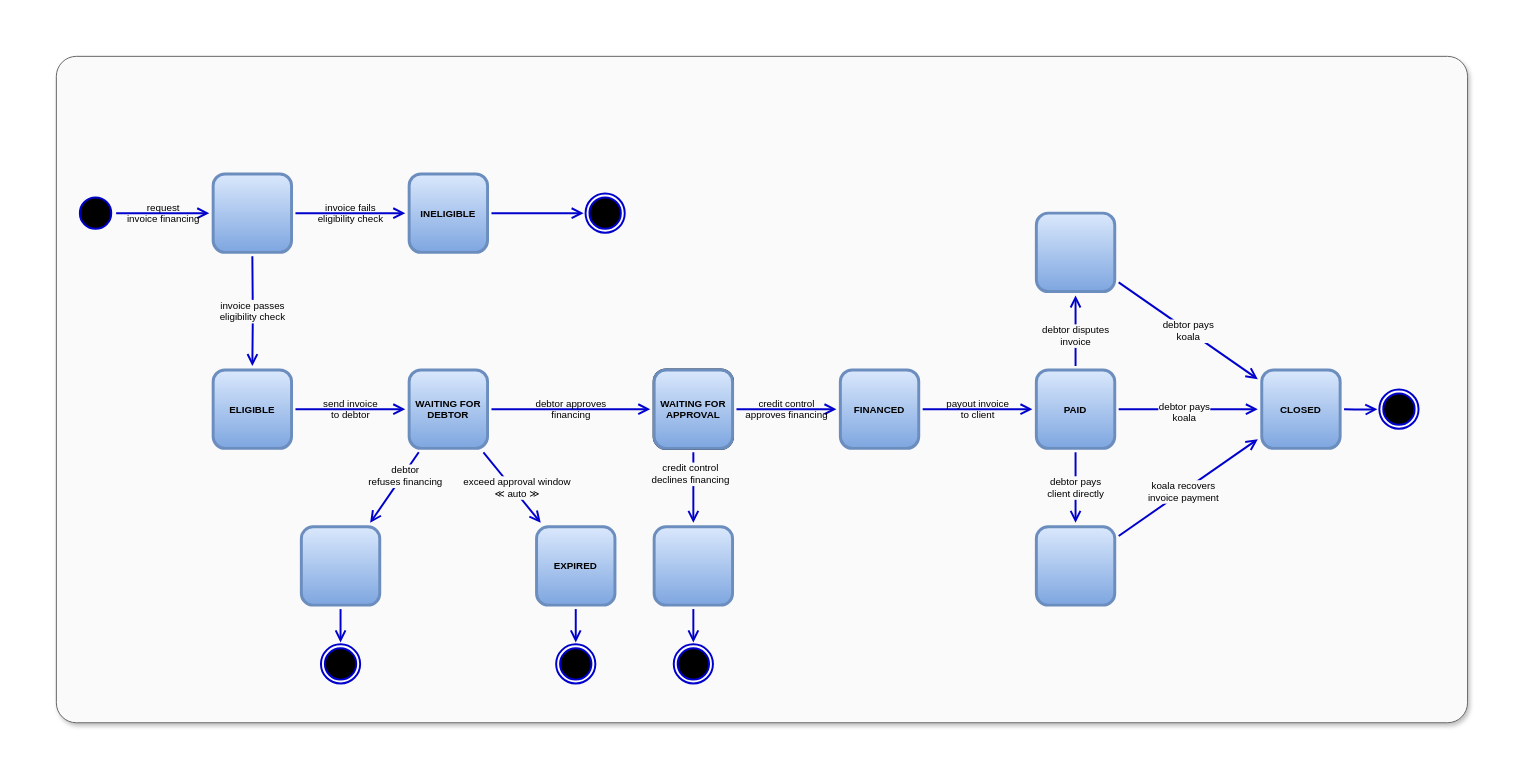
The diagram is 1523 pixels wide and 778 high, and some of its shapes have lost their labels. Each missing label, with the centre of its shape:
CANCELLED: the point at 693,565
DIRECT PAYMENT: the point at 1075,565
DISPUTED: the point at 1075,252
REFUSED: the point at 340,565
REQUESTED: the point at 252,212
